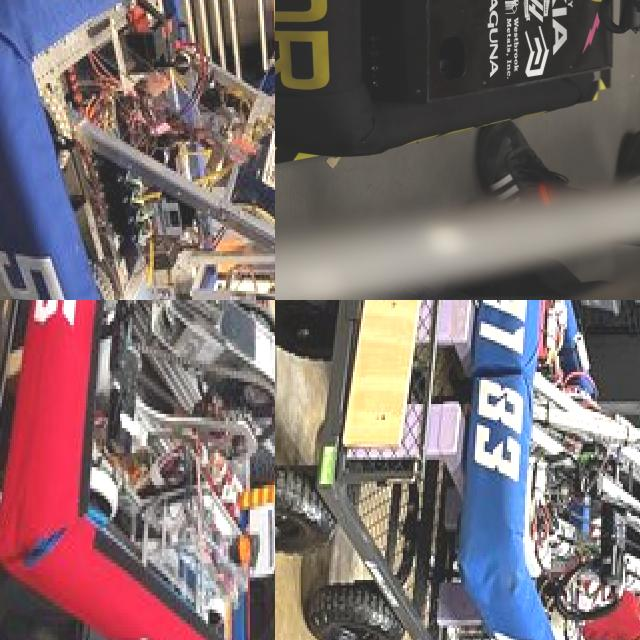FRC-Robots: (0, 300, 275, 640), (0, 0, 275, 300), (275, 0, 640, 198), (445, 300, 640, 640)
